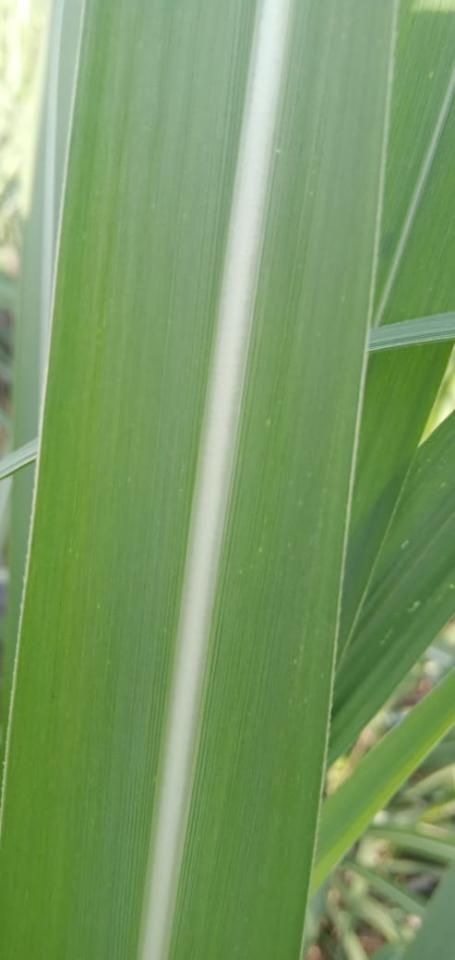Healthy: (0, 0, 395, 959), (330, 414, 454, 762), (340, 342, 451, 650), (374, 0, 454, 323)
